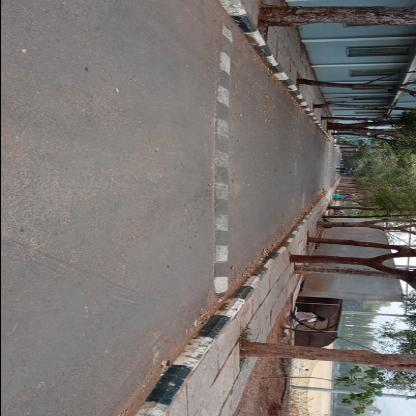speed-bumps: (202, 23, 238, 300)
